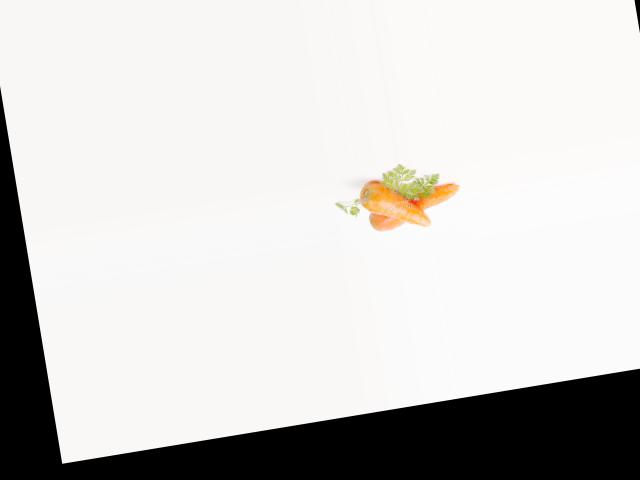carrot: (364, 181, 465, 234)
